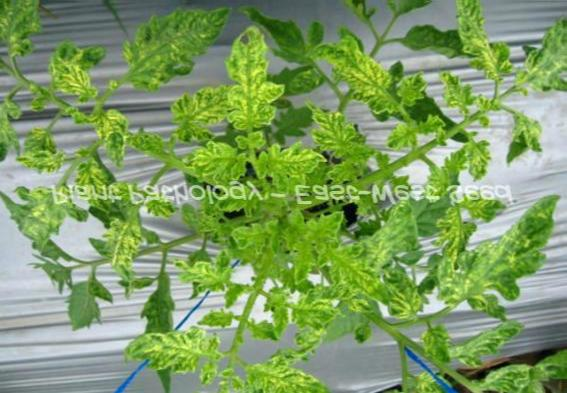Tomato leaf yellow virus: (455, 191, 558, 309), (122, 0, 228, 96), (294, 218, 394, 303), (301, 31, 406, 103), (127, 318, 224, 384), (225, 25, 277, 132), (449, 0, 510, 84), (310, 104, 376, 179), (8, 184, 76, 256), (238, 353, 351, 392), (492, 102, 557, 167), (439, 318, 527, 365), (97, 199, 153, 266), (366, 209, 416, 277), (167, 82, 233, 133), (20, 120, 66, 181), (52, 41, 105, 93), (187, 140, 249, 181), (263, 141, 324, 182), (94, 106, 132, 167), (176, 252, 231, 292), (458, 130, 496, 178)
